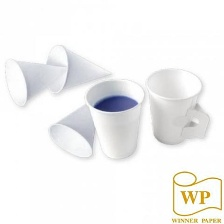paper_cup: (141, 62, 214, 149), (81, 73, 148, 164), (40, 40, 116, 97), (0, 51, 71, 110), (44, 100, 102, 163)
